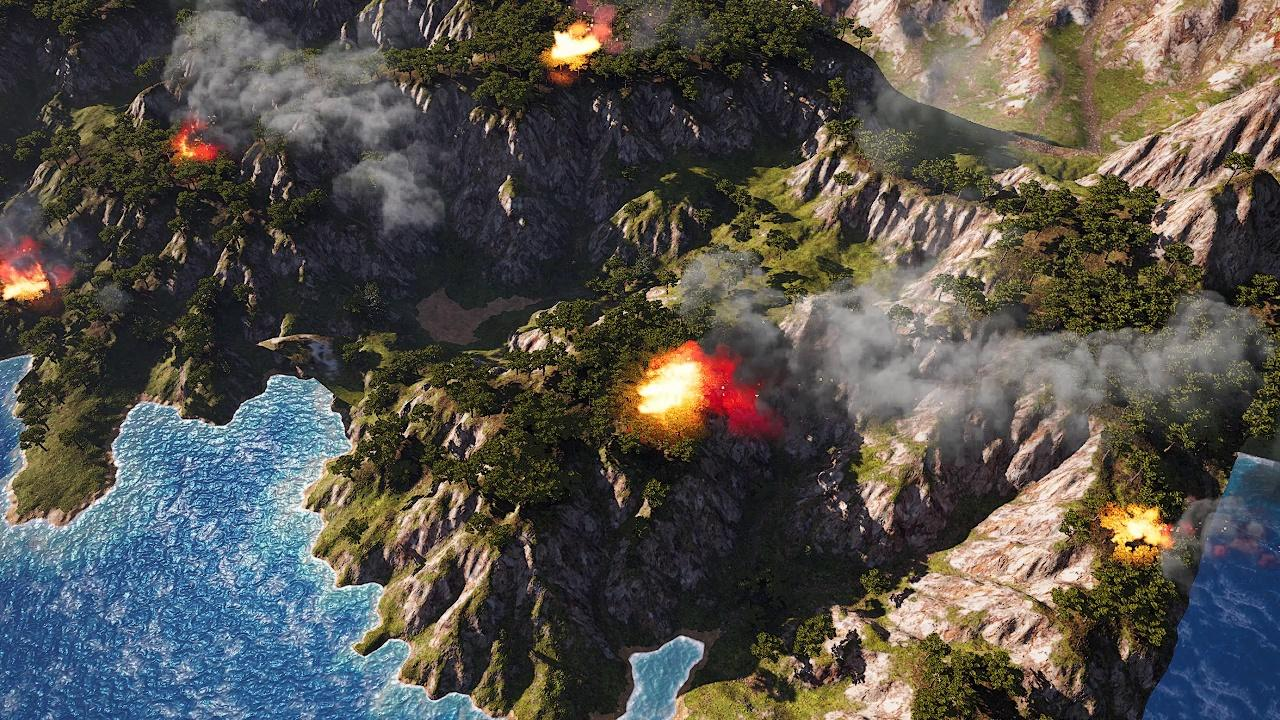fire: (636, 346, 703, 418), (1114, 511, 1169, 547), (549, 26, 601, 64), (0, 262, 47, 299), (177, 129, 220, 163)
smoke: (687, 243, 1279, 464), (164, 0, 459, 236), (1, 196, 88, 282)
